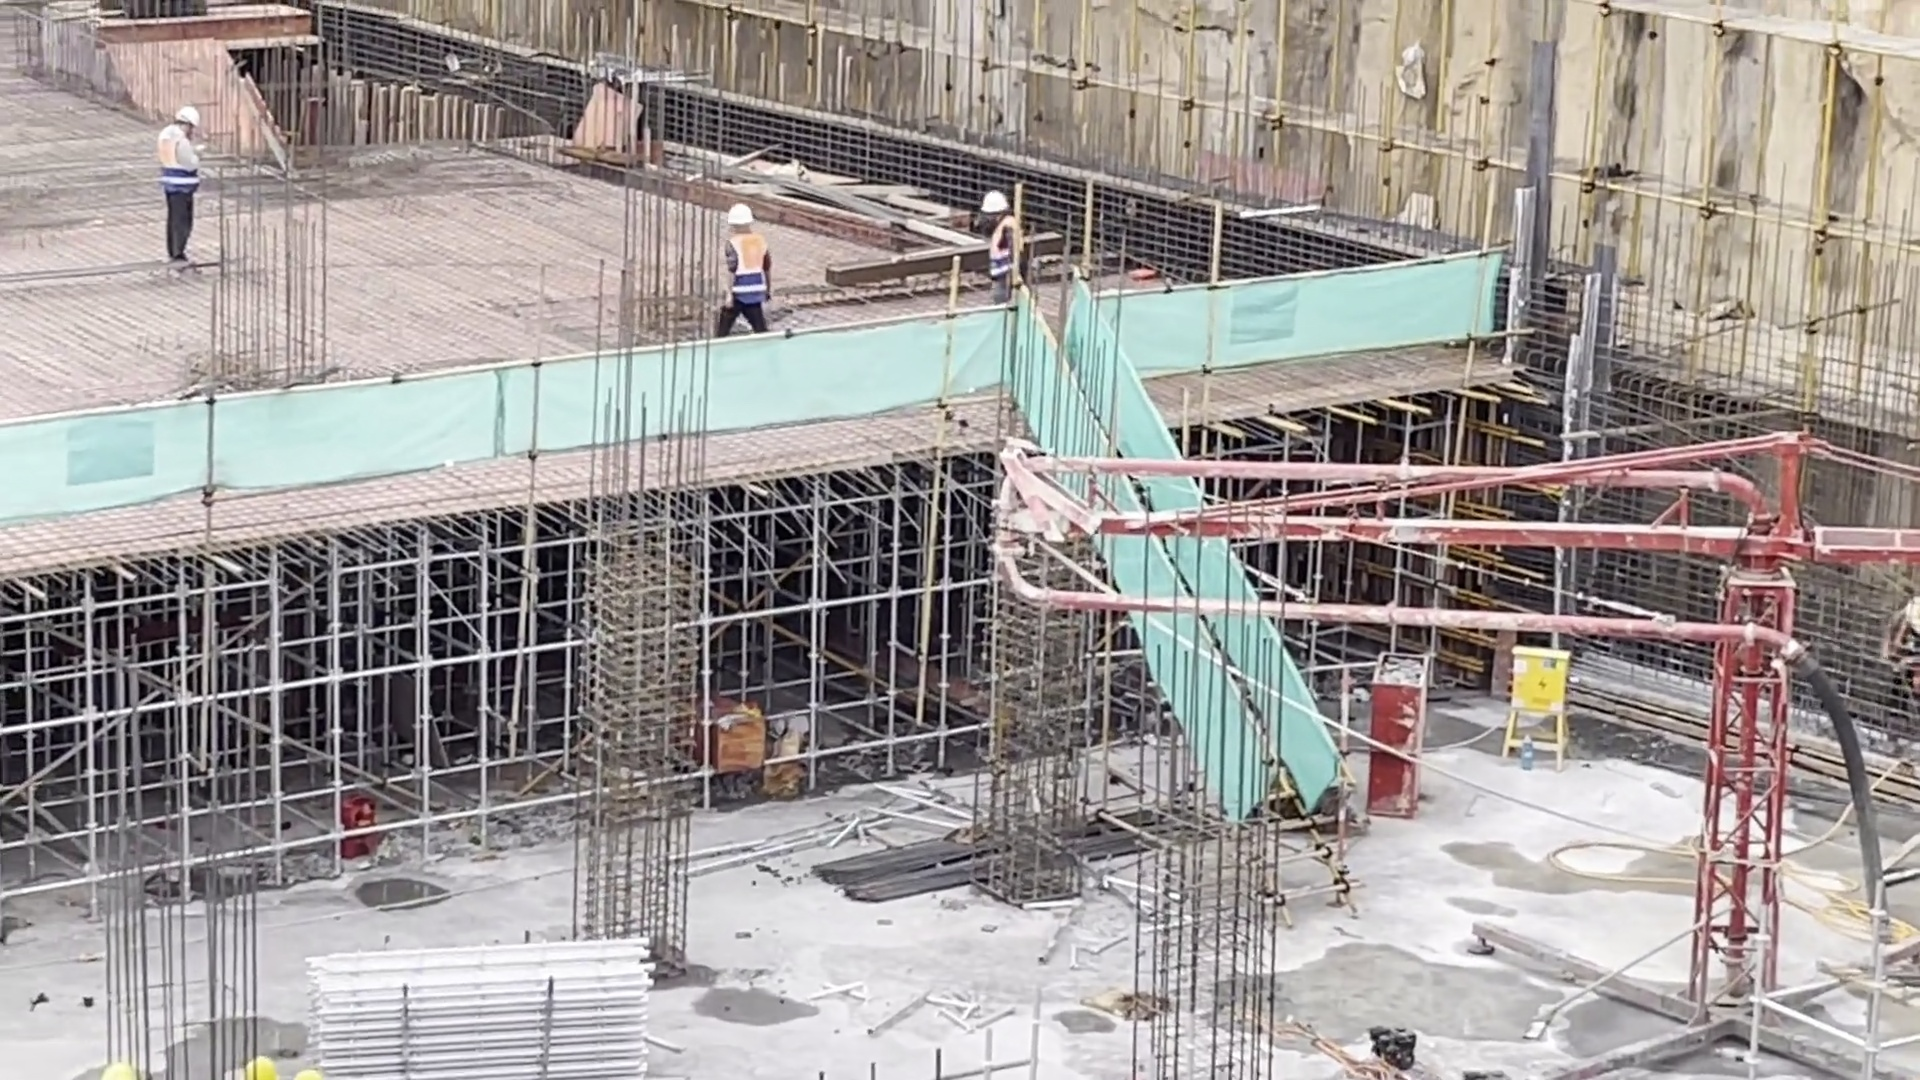helmet: (720, 192, 763, 230), (174, 96, 201, 132), (981, 187, 1018, 212)
person: (153, 105, 211, 281), (712, 194, 778, 334), (972, 182, 1039, 297)
vest: (714, 231, 777, 308), (979, 226, 1027, 296), (154, 131, 197, 191)
